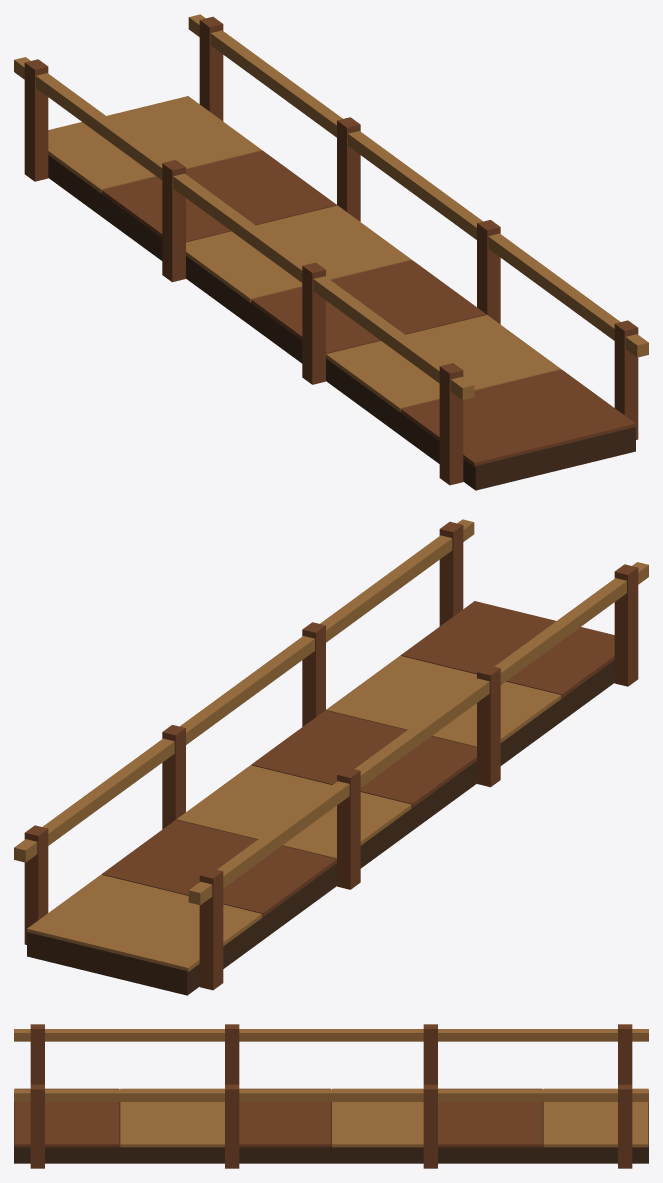
File: Tropical_LagoonBridge_Simple.glb
3 renders of one model, top to bottom at view 1: azimuth 30°, elevation 25°; view 2: azimuth 150°, elevation 25°; view 3: azimuth 270°, elevation 25°, orthographic. The views are drawn at different scales.
Visible parts, largest first — view 1: Tropical_LagoonBridge_Simple; view 2: Tropical_LagoonBridge_Simple; view 3: Tropical_LagoonBridge_Simple.
Boxes of the visible parts, bbox=[...] form: Tropical_LagoonBridge_Simple: bbox=[14, 14, 648, 490]; Tropical_LagoonBridge_Simple: bbox=[14, 519, 648, 995]; Tropical_LagoonBridge_Simple: bbox=[14, 1024, 648, 1168].
Bounding box in the file's own units: 1.94 × 1.1 × 8.
